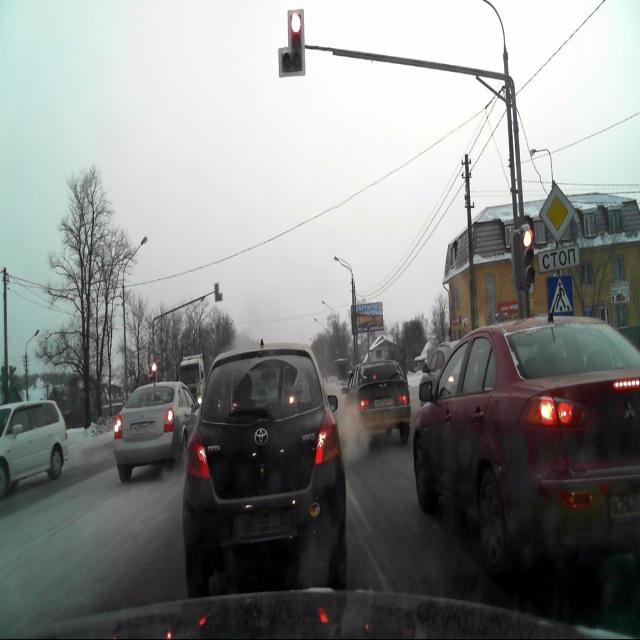road sign: (540, 187, 574, 245), (546, 275, 574, 316), (539, 244, 579, 271)
